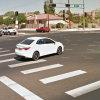Crosswalk: (5, 45, 94, 95)
